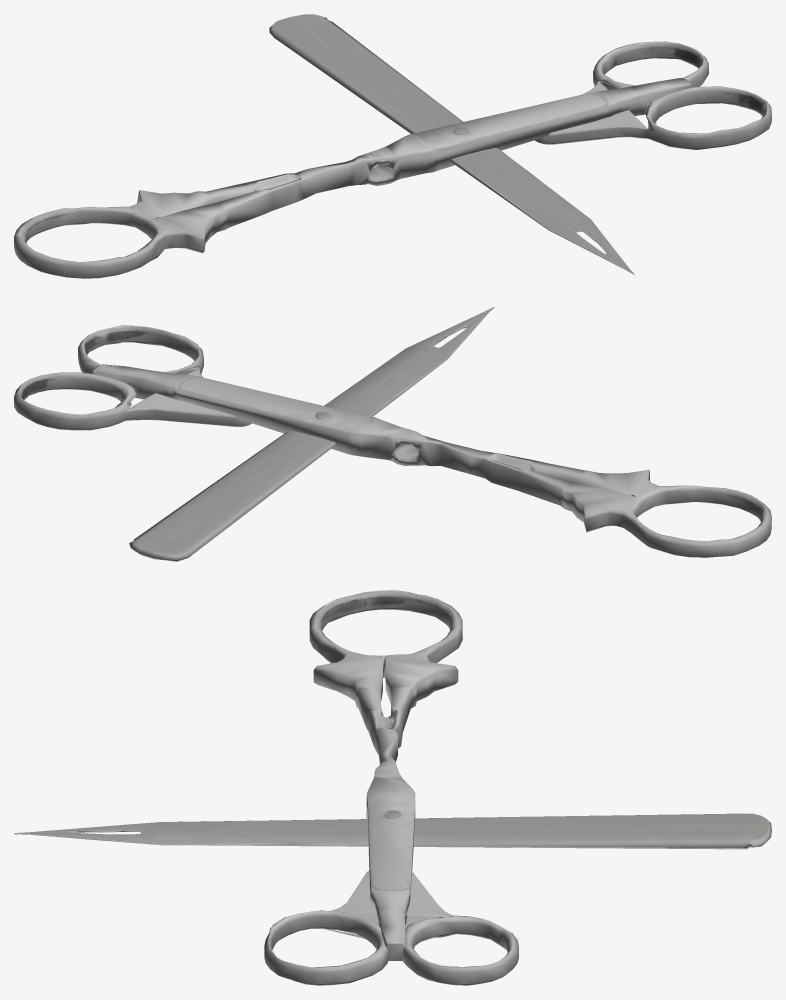
The model's file is scalpel.glb.
3 renders of one model, top to bottom at view 1: azimuth 30°, elevation 25°; view 2: azimuth 150°, elevation 25°; view 3: azimuth 270°, elevation 25°, orthographic. The views are drawn at different scales.
Size of the model in its own units: 0.9531 by 0.0362 by 0.8004.
1 material, 1 textured.
